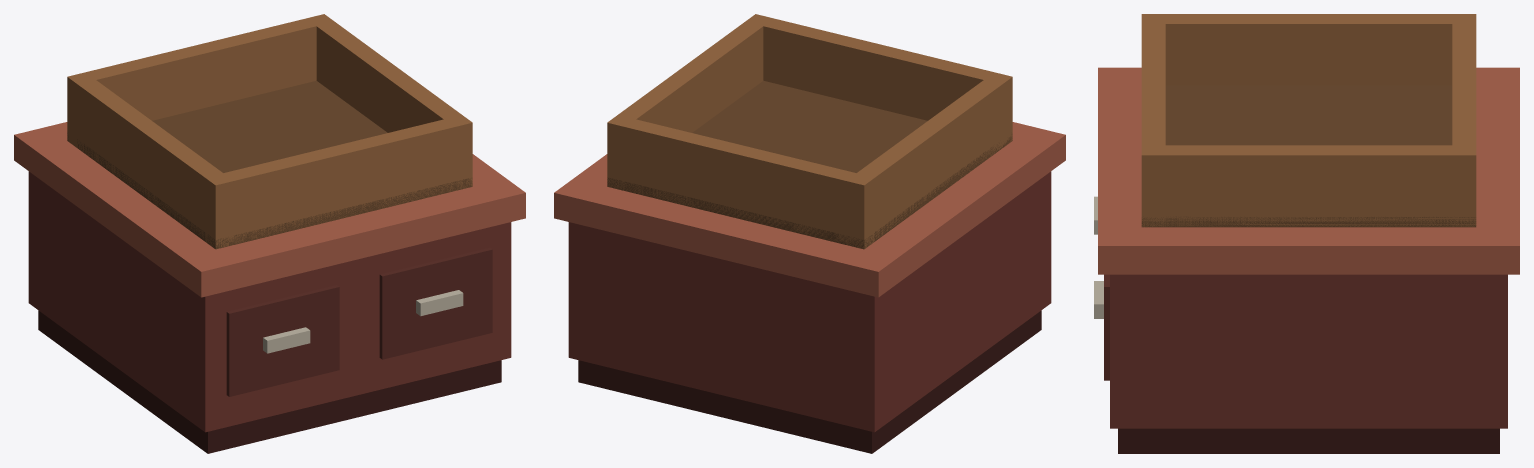
The model's file is k_ember_bottles.glb.
The picture shows the model from 3 angles, left to right: view 1: azimuth 30°, elevation 25°; view 2: azimuth 150°, elevation 25°; view 3: azimuth 270°, elevation 25°; orthographic projection. The views are drawn at different scales.
Parts seen in each view (by area): view 1: piece; view 2: piece; view 3: piece.
Boxes of the visible parts, x1,y1,x2,y2 form: piece: [14, 14, 525, 453]; piece: [554, 14, 1065, 453]; piece: [1094, 14, 1519, 453].
Size of the model in its own units: 1.06 by 0.8 by 1.07.
